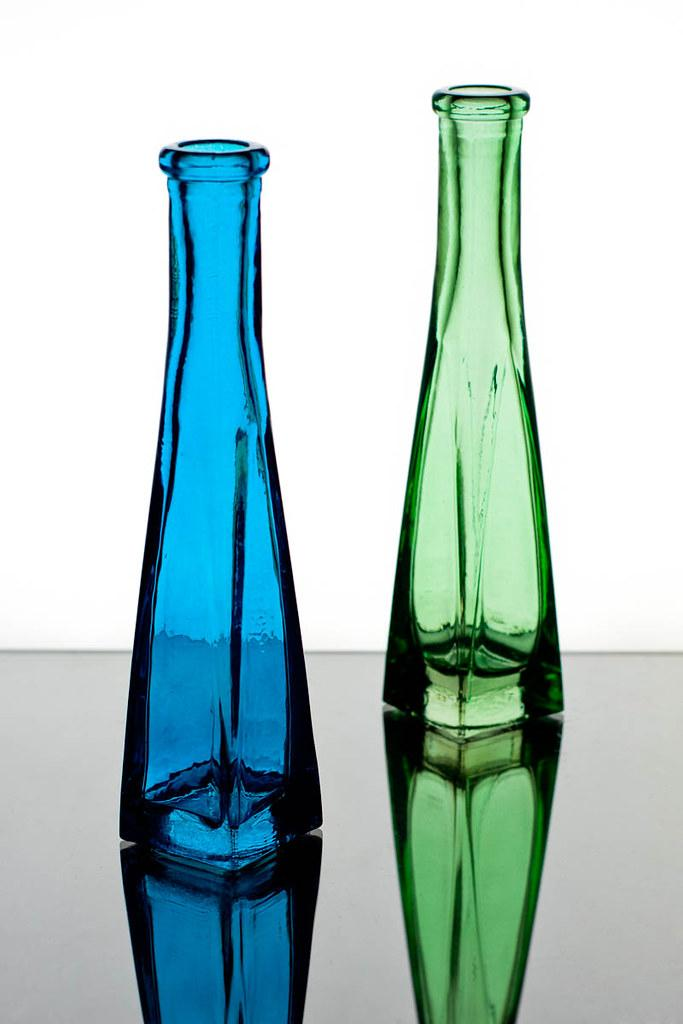bottle: (119, 138, 324, 874), (382, 83, 566, 735), (382, 715, 565, 1024), (119, 832, 323, 1024)
